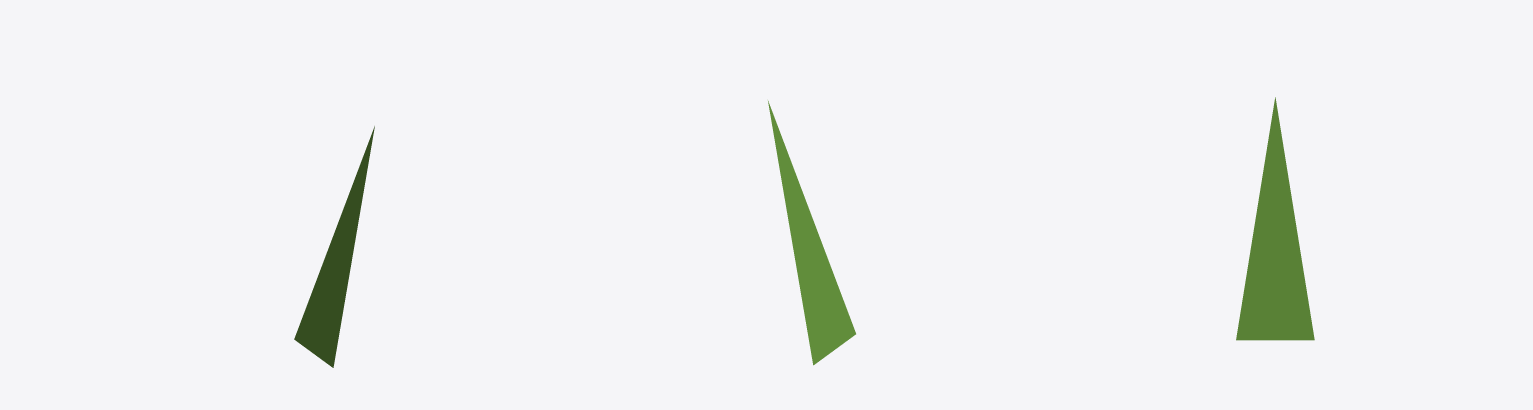
Rendered from cover-daisyFar.glb.
3 views of the same model, side by side, from view 1: azimuth 30°, elevation 25°; view 2: azimuth 150°, elevation 25°; view 3: azimuth 270°, elevation 25° (orthographic). The views are drawn at different scales.
Parts seen in each view (by area): view 1: cover-daisyFar; view 2: cover-daisyFar; view 3: cover-daisyFar.
Boxes of the visible parts, x1,y1,x2,y2 form: cover-daisyFar: (294, 126, 374, 367); cover-daisyFar: (768, 101, 855, 365); cover-daisyFar: (1236, 97, 1314, 340).
Size of the model in its own units: 0.3639 by 0.2477 by 0.3123.
